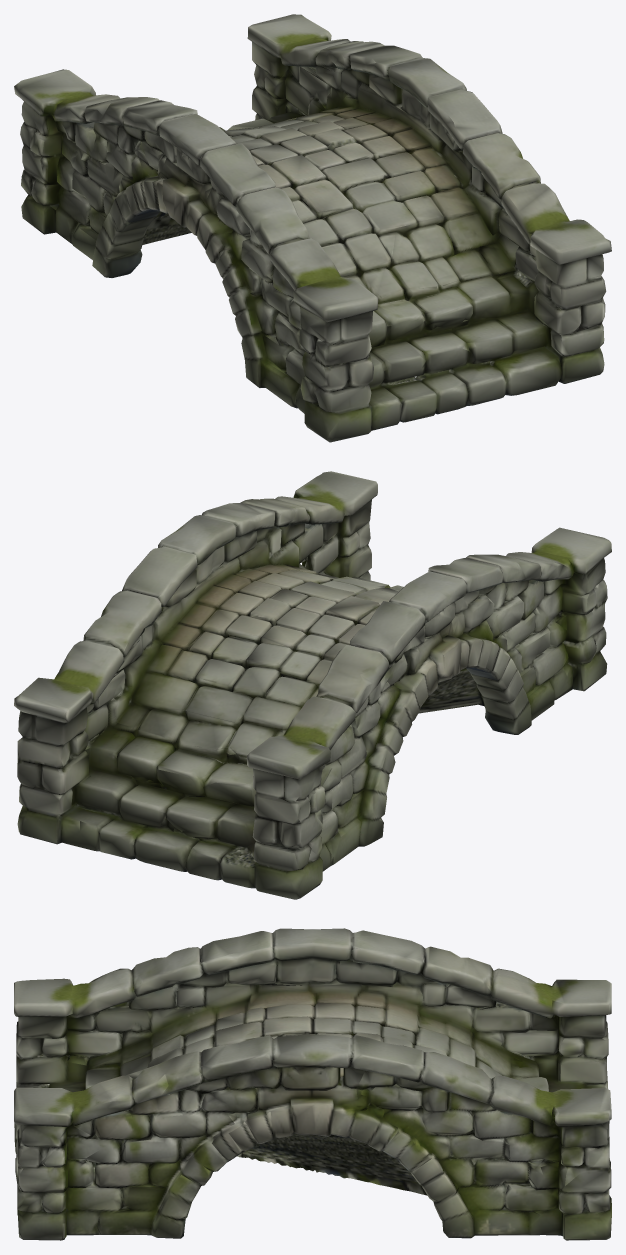
3 views of the same model, one above another, from view 1: azimuth 30°, elevation 25°; view 2: azimuth 150°, elevation 25°; view 3: azimuth 270°, elevation 25° (orthographic). The views are drawn at different scales.
Parts seen in each view (by area): view 1: repaired; view 2: repaired; view 3: repaired.
Part boxes in pixels (bbox=[...]): repaired: bbox=[14, 14, 611, 442]; repaired: bbox=[14, 471, 611, 899]; repaired: bbox=[14, 928, 611, 1240].
Bounding box in the file's own units: 0.5397 × 0.3461 × 0.9997.
Materials: 1 (1 with a texture image).
